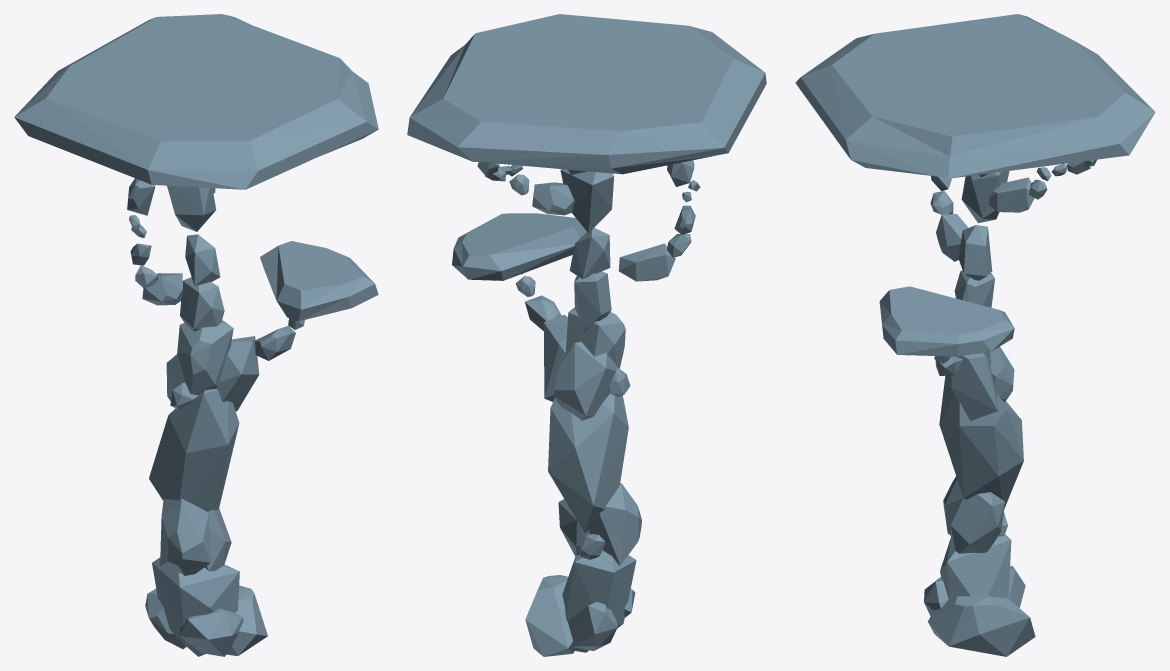
File: StoneTree6.fbx
3 views of the same model, side by side, from view 1: azimuth 30°, elevation 25°; view 2: azimuth 150°, elevation 25°; view 3: azimuth 270°, elevation 25° (orthographic). The views are drawn at different scales.
Parts seen in each view (by area): view 1: Cube, Cube.020, Cube.002, Cube.013, Cube.019, Cube.027, Cube.017, Cube.021, Cube.028, Cube.030, Cube.016, Cube.029 (+5 smaller); view 2: Cube, Cube.020, Cube.002, Cube.013, Cube.026, Cube.016, Cube.019, Cube.030, Cube.027, Cube.048, Cube.028, Cube.029 (+7 smaller); view 3: Cube, Cube.002, Cube.020, Cube.016, Cube.013, Cube.046, Cube.021, Cube.029, Cube.030, Cube.039, Cube.028, Cube.025 (+3 smaller).
Part boxes in pixels (x1,y1,x2,y2): Cube: [14, 14, 378, 189]; Cube.020: [149, 389, 239, 511]; Cube.002: [260, 241, 378, 321]; Cube.013: [152, 557, 239, 656]; Cube.019: [160, 499, 210, 575]; Cube.027: [177, 320, 233, 395]; Cube.017: [179, 608, 243, 656]; Cube.021: [216, 336, 259, 411]; Cube.028: [180, 277, 224, 331]; Cube.030: [167, 185, 216, 231]; Cube.016: [226, 585, 267, 655]; Cube.029: [185, 234, 220, 285]; Cube: [407, 14, 766, 174]; Cube.020: [548, 393, 628, 532]; Cube.002: [452, 213, 586, 280]; Cube.013: [562, 550, 636, 652]; Cube.026: [554, 341, 616, 420]; Cube.016: [525, 575, 574, 656]; Cube.019: [589, 483, 641, 565]; Cube.030: [560, 169, 614, 233]; Cube.027: [565, 307, 625, 368]; Cube.048: [568, 602, 617, 650]; Cube.028: [574, 271, 611, 331]; Cube.029: [569, 227, 610, 279]; Cube: [795, 14, 1155, 178]; Cube.002: [879, 286, 1014, 356]; Cube.020: [939, 377, 1023, 508]; Cube.016: [927, 596, 1035, 656]; Cube.013: [940, 534, 1011, 600]; Cube.046: [950, 492, 1004, 553]; Cube.021: [945, 353, 998, 420]; Cube.029: [958, 225, 992, 280]; Cube.030: [961, 171, 1009, 222]; Cube.039: [988, 177, 1034, 212]; Cube.028: [954, 270, 994, 307]; Cube.025: [936, 214, 968, 261].
Bounding box in the file's own units: 2743 × 4831 × 2794.
